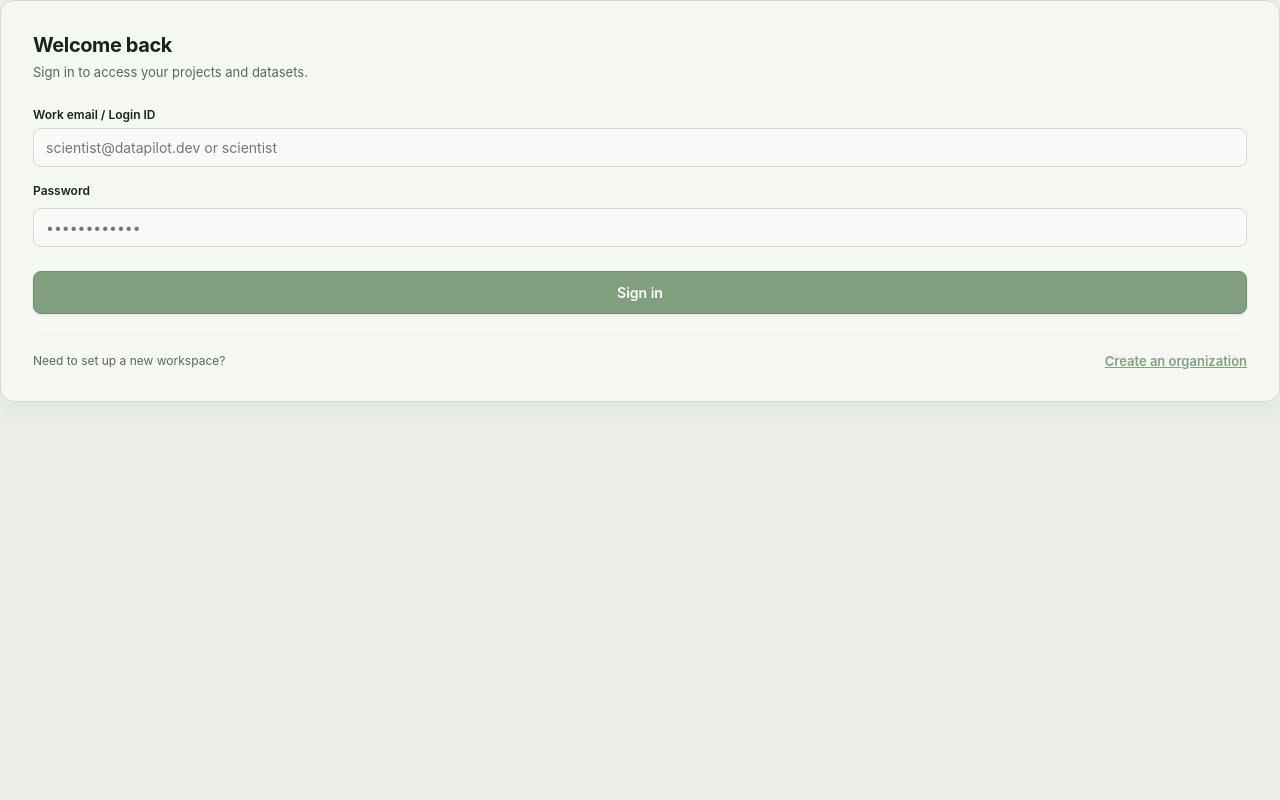
Scenario: AuthView component › shows error if password is less than 8 characters during registration
Click the button "Create an organization". click: (1176, 360)
box: x1=1105 y1=352 x2=1247 y2=368
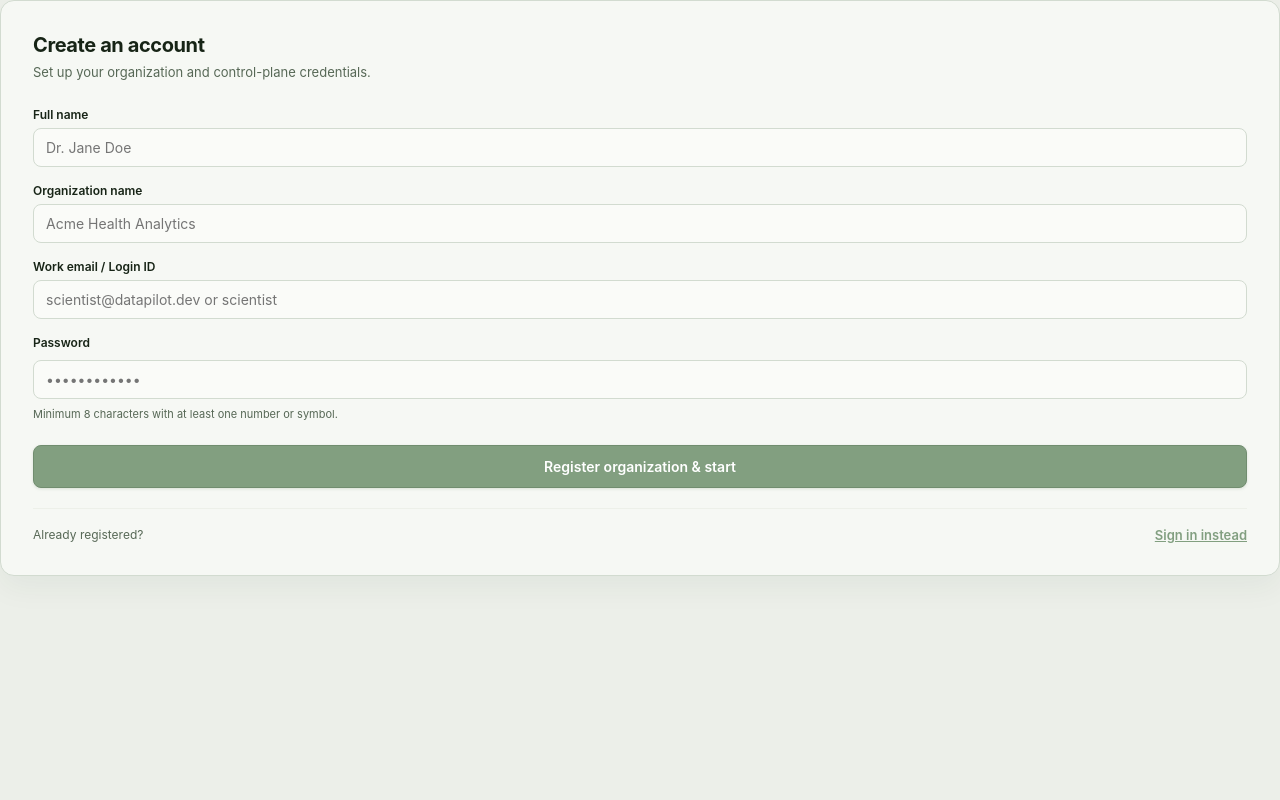
Type "Alice Smith" into the field labelled "Full name". click: (640, 147)
box: x1=33 y1=128 x2=1247 y2=166
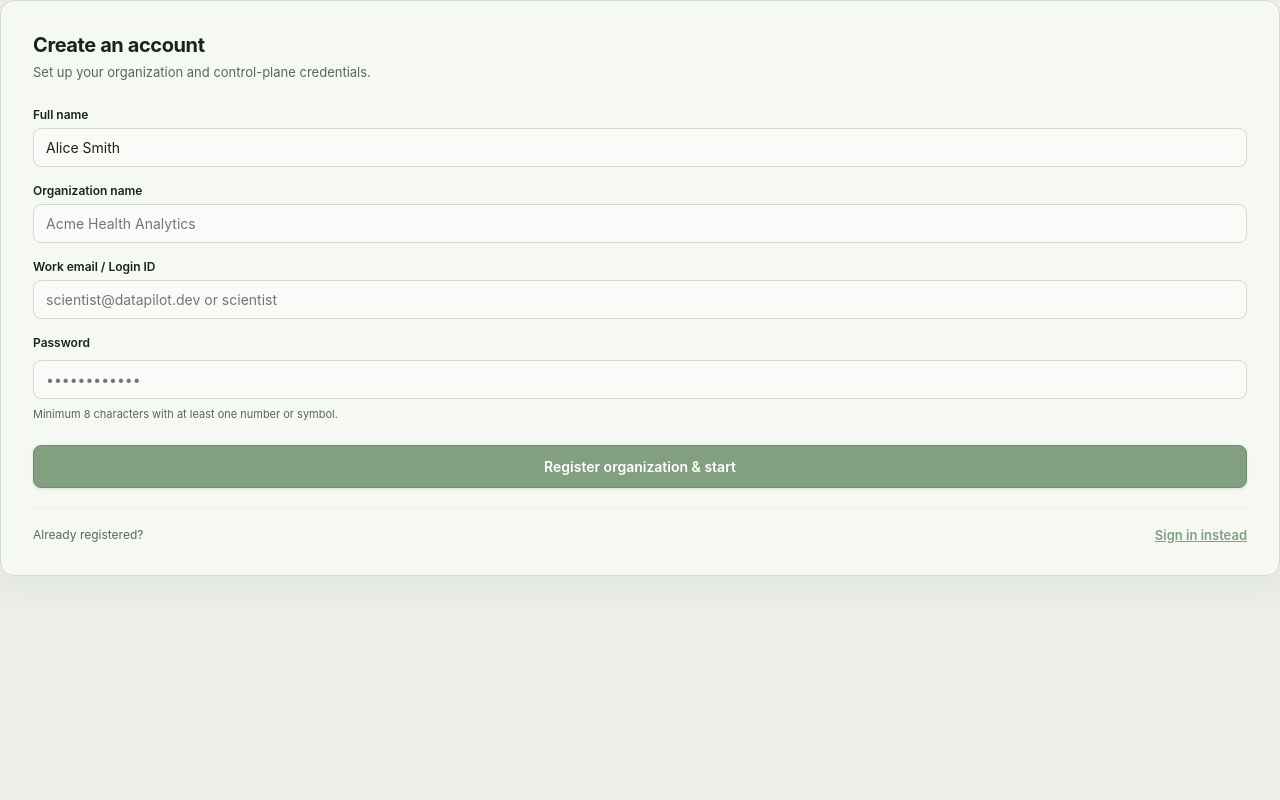
Type "Acme Corp" into the field labelled "Organization name". click: (640, 223)
box: x1=33 y1=204 x2=1247 y2=242
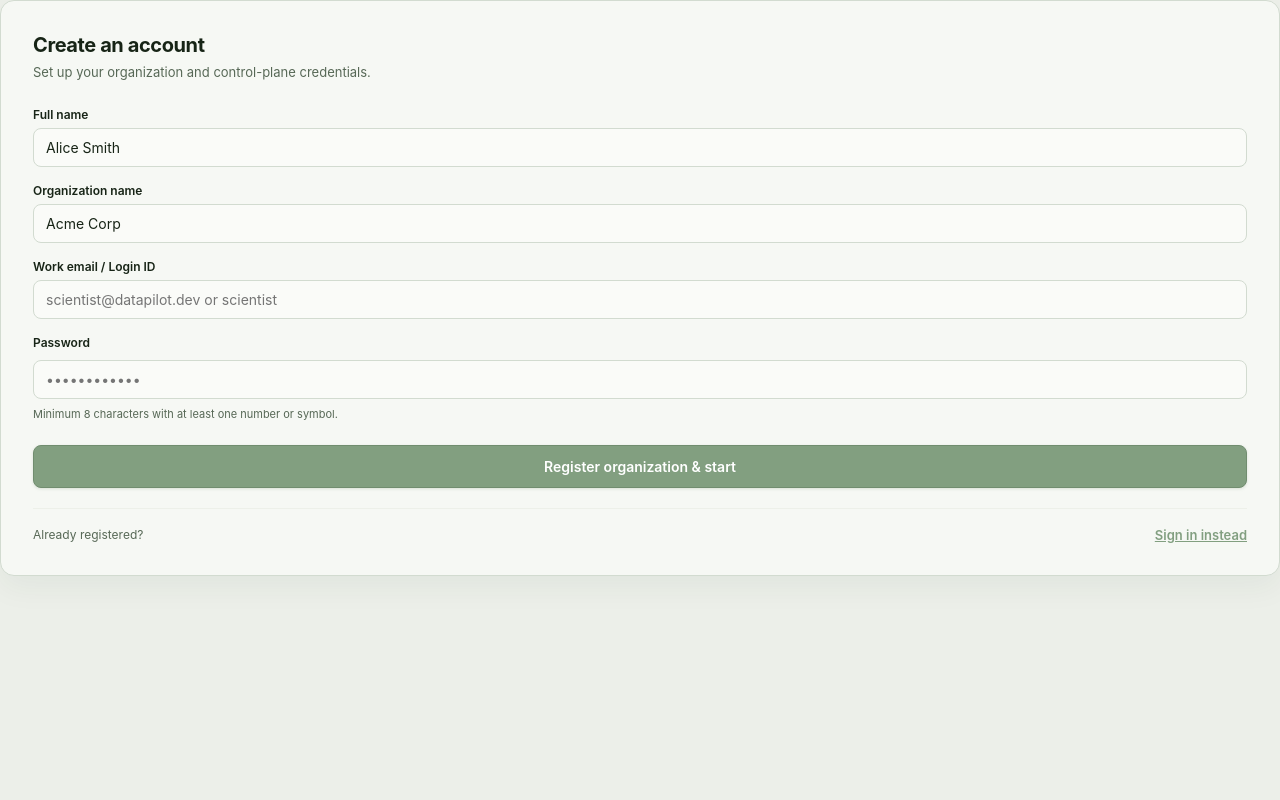
Type "alice@acme.org" into the field labelled "Work email / Login ID". click: (640, 299)
box: x1=33 y1=280 x2=1247 y2=318
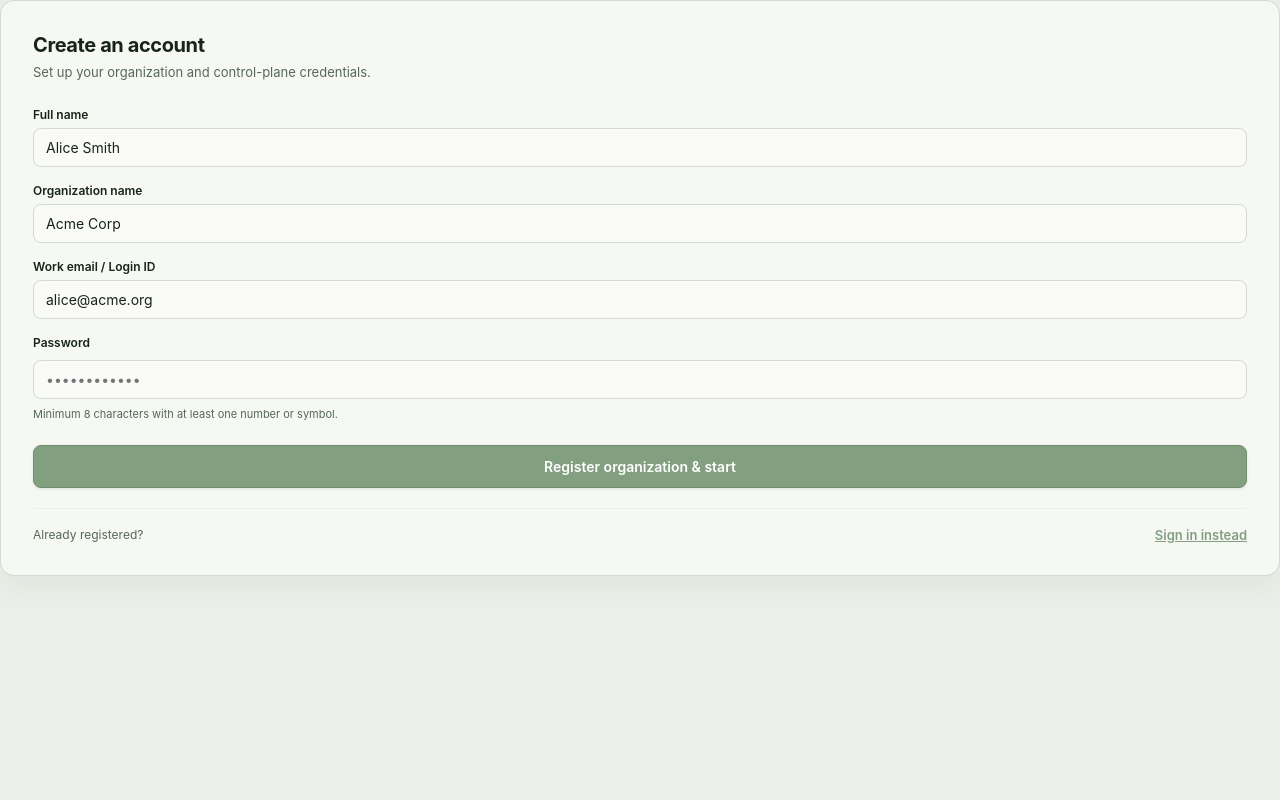
Type "short" into the password field labelled "Password". click: (640, 379)
box: x1=33 y1=360 x2=1247 y2=398
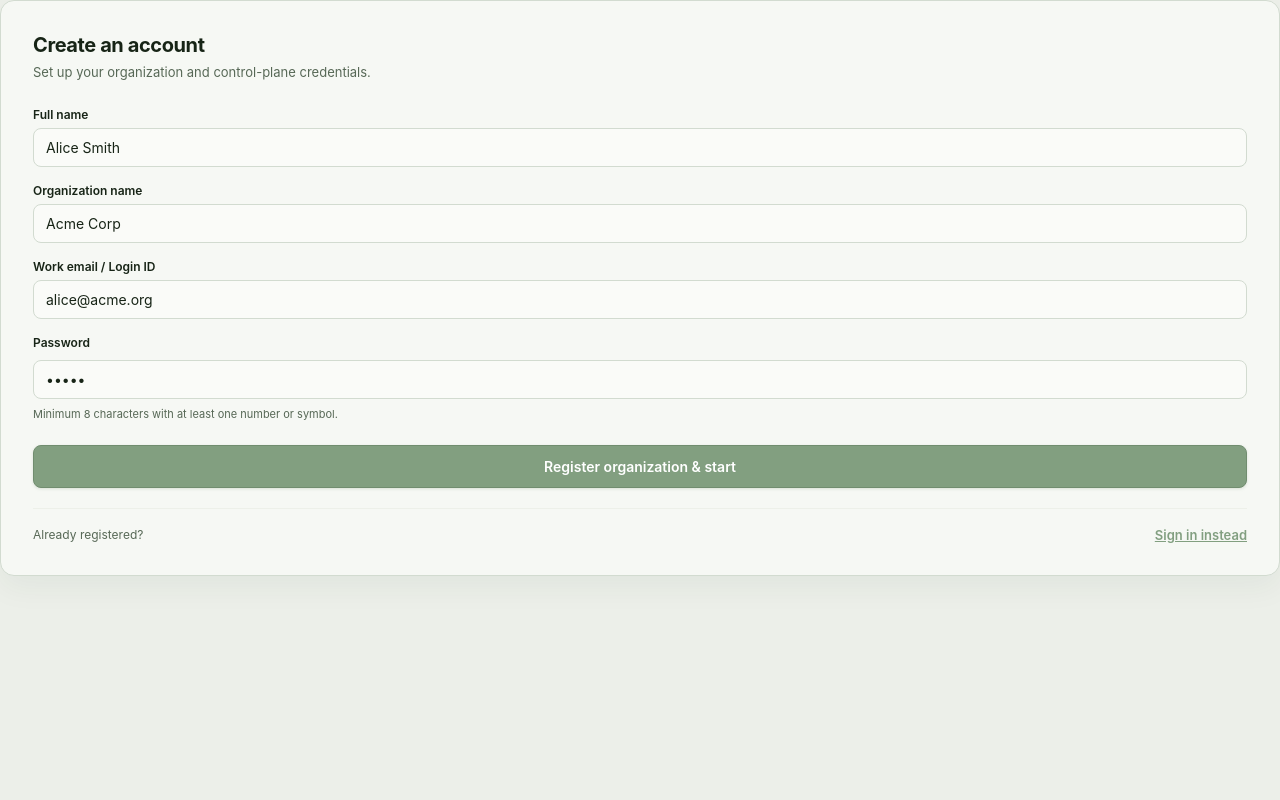
Click the button "Register organization & start". click: (640, 466)
box: x1=33 y1=444 x2=1247 y2=488
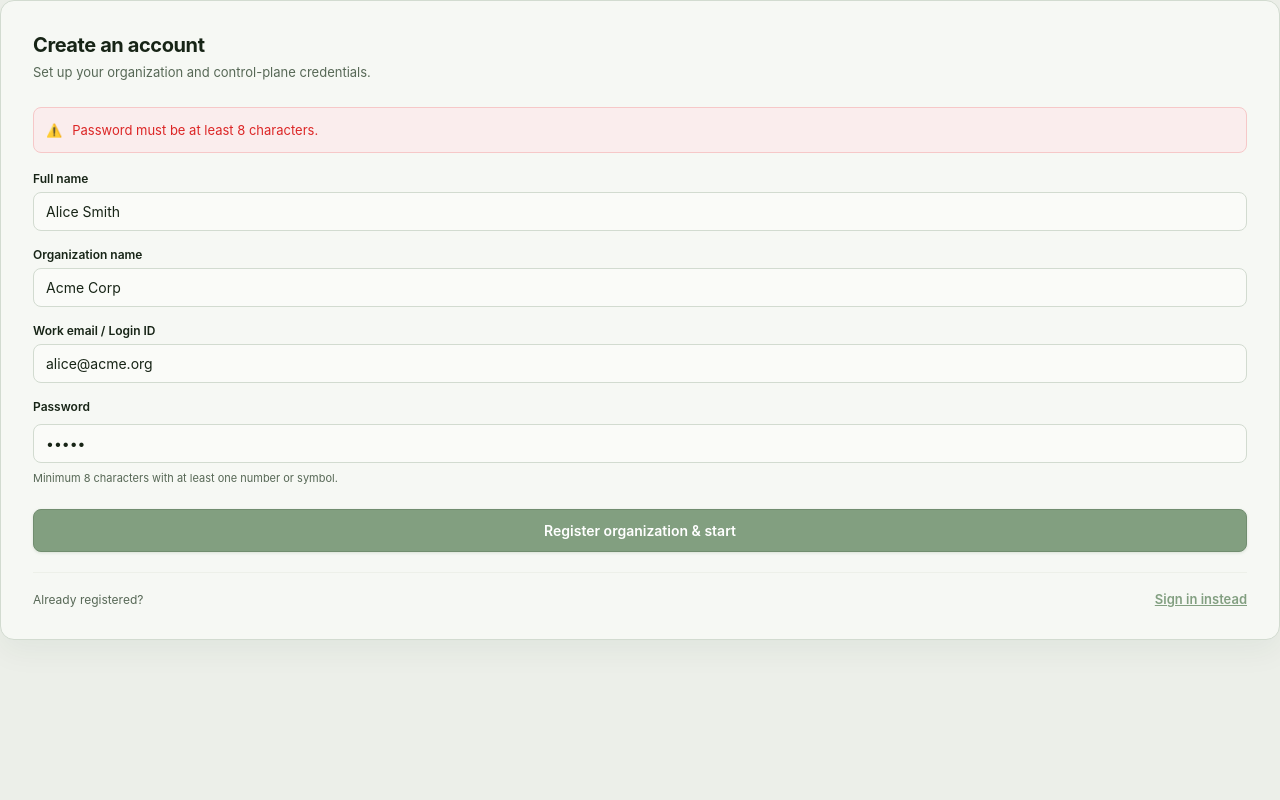
Now the message shows "at least 8 characters", box x1=72 y1=122 x2=318 y2=138
